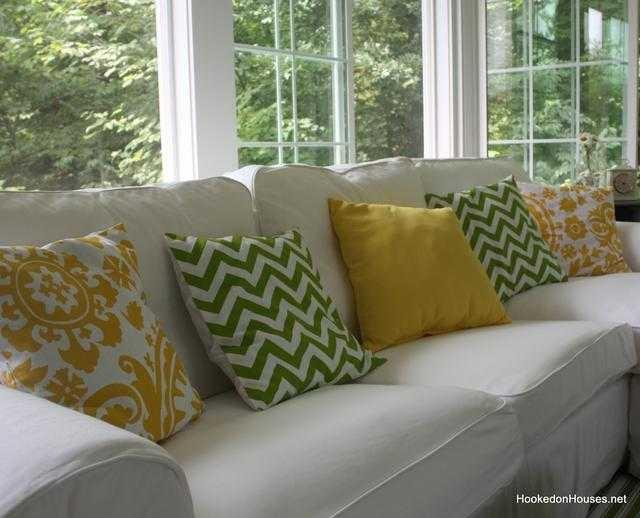pillow: (0, 221, 204, 443), (164, 227, 388, 412), (326, 196, 514, 352), (424, 173, 568, 304)
